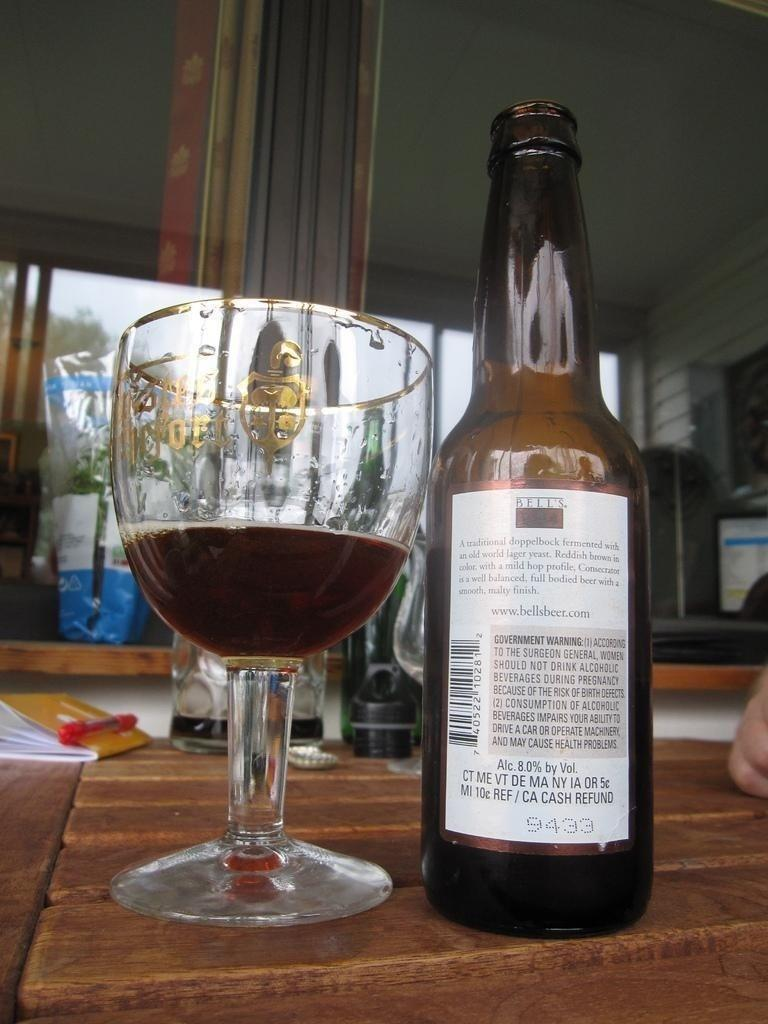bottle-glass: (420, 99, 655, 945)
glass-wine: (108, 289, 433, 932)
